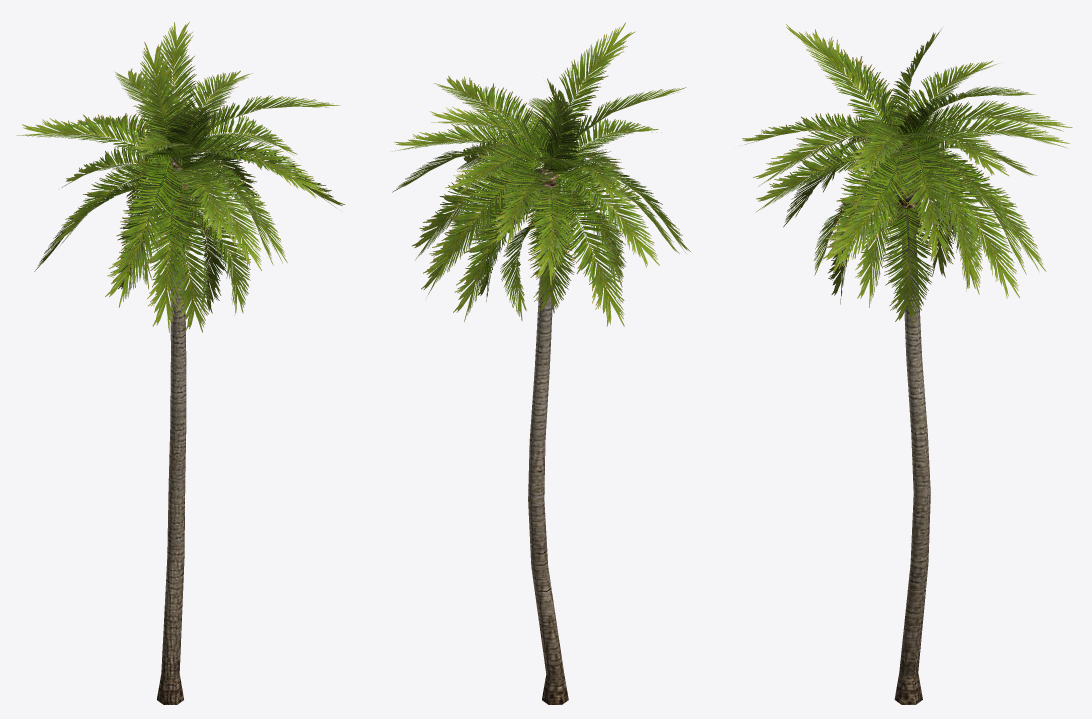
The model's file is Palm Tree.FBX.
3 renders of one model, left to right at view 1: azimuth 30°, elevation 25°; view 2: azimuth 150°, elevation 25°; view 3: azimuth 270°, elevation 25°, orthographic. The views are drawn at different scales.
Parts seen in each view (by area): view 1: Mesh32; view 2: Mesh32; view 3: Mesh32.
Boxes of the visible parts, x1,y1,x2,y2 form: Mesh32: (16, 22, 345, 704); Mesh32: (392, 22, 690, 704); Mesh32: (742, 24, 1072, 704).
Size of the model in its own units: 96 by 218 by 102.
